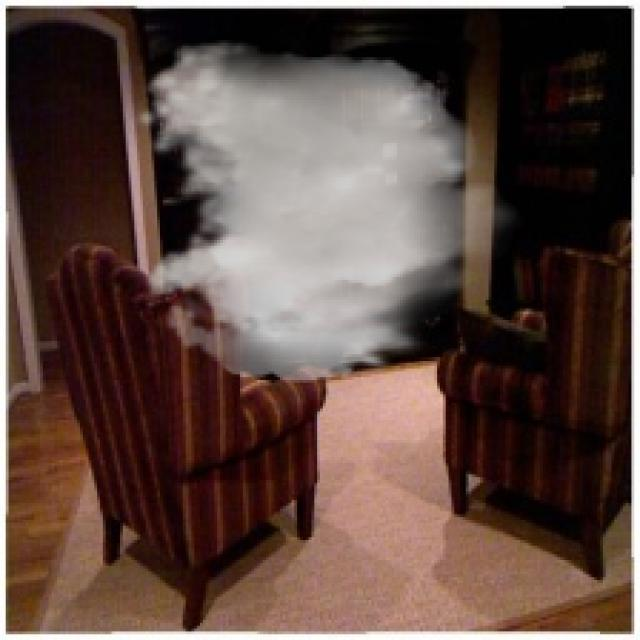smoke: (131, 40, 526, 383)
